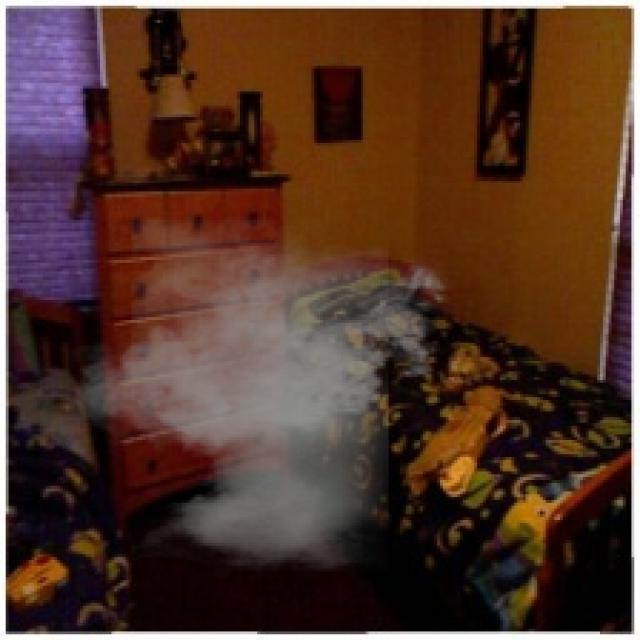Smoke: (60, 217, 460, 572)
